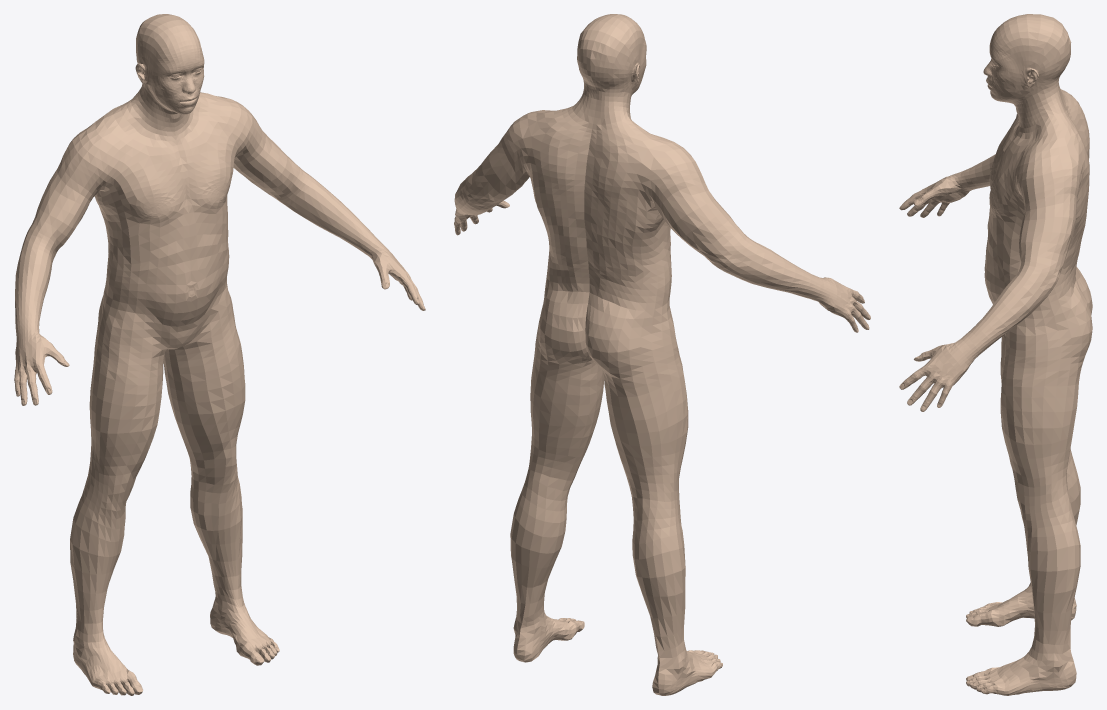
Rendered from male-young-max-strong.glb.
3 renders of one model, left to right at view 1: azimuth 30°, elevation 25°; view 2: azimuth 150°, elevation 25°; view 3: azimuth 270°, elevation 25°, orthographic.
Parts seen in each view (by area): view 1: world; view 2: world; view 3: world.
Part boxes in pixels (box(x1,y1,x2,y2)): world: box(14, 14, 425, 695); world: box(454, 14, 870, 695); world: box(899, 14, 1092, 695).
Bounding box in the file's own units: 1.24 × 1.89 × 0.5185.
